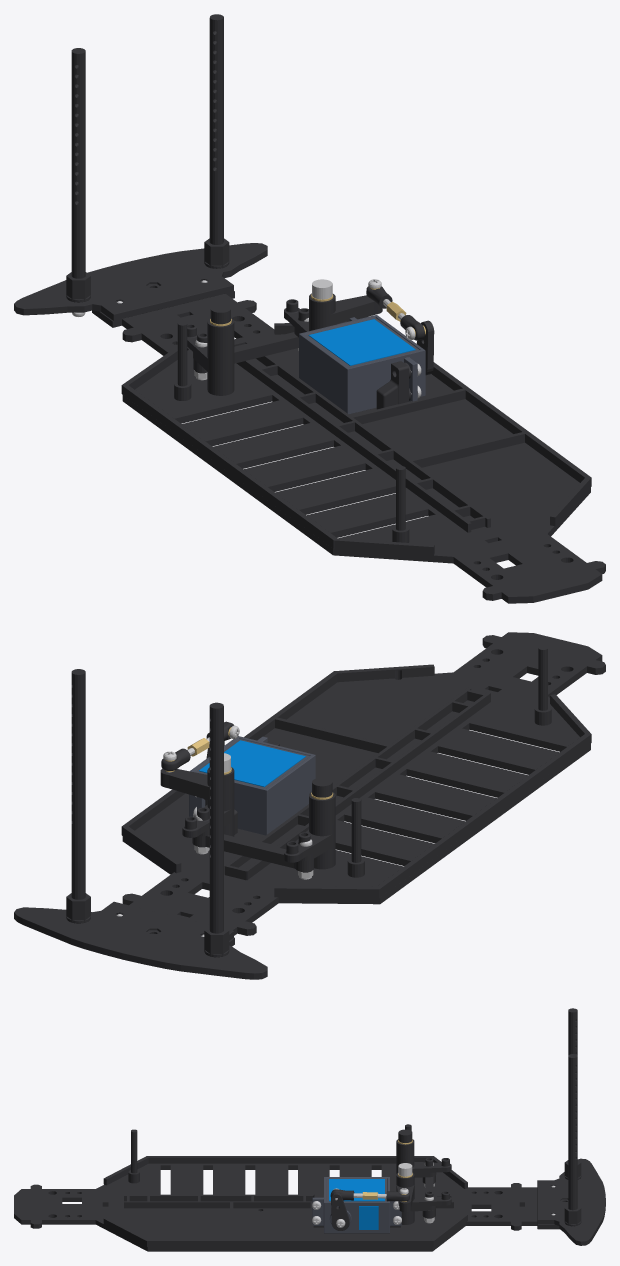
File: hsp_C.glb
The picture shows the model from 3 angles, top to bottom: view 1: azimuth 30°, elevation 25°; view 2: azimuth 150°, elevation 25°; view 3: azimuth 270°, elevation 25°; orthographic projection. The views are drawn at different scales.
Parts seen in each view (by area): view 1: n27, n5, n28, n1, n0, n29, n2, n3, n4, n13, n31, n30; view 2: n27, n5, n28, n0, n1, n3, n2, n29, n4, n31, n30, n35; view 3: n27, n5, n28, n1, n29, n3, n2, n0, n12, n30, n35.
Part boxes in pixels (x1=…): n27: x1=121, y1=293, x2=605, y2=603; n5: x1=14, y1=243, x2=267, y2=327; n28: x1=299, y1=315, x2=425, y2=414; n1: x1=204, y1=14, x2=229, y2=268; n0: x1=66, y1=48, x2=90, y2=301; n29: x1=308, y1=319, x2=415, y2=365; n2: x1=187, y1=318, x2=234, y2=395; n3: x1=284, y1=293, x2=382, y2=337; n4: x1=193, y1=332, x2=298, y2=372; n13: x1=376, y1=361, x2=411, y2=409; n31: x1=174, y1=321, x2=191, y2=400; n30: x1=392, y1=466, x2=409, y2=542; n27: x1=121, y1=632, x2=605, y2=935; n5: x1=14, y1=901, x2=267, y2=979; n28: x1=189, y1=736, x2=315, y2=835; n0: x1=204, y1=702, x2=229, y2=956; n1: x1=66, y1=669, x2=90, y2=922; n3: x1=160, y1=767, x2=234, y2=837; n2: x1=284, y1=791, x2=335, y2=869; n29: x1=199, y1=740, x2=305, y2=787; n4: x1=192, y1=834, x2=314, y2=871; n31: x1=347, y1=798, x2=364, y2=877; n30: x1=534, y1=646, x2=551, y2=725; n35: x1=161, y1=721, x2=233, y2=770; n27: x1=14, y1=1156, x2=537, y2=1251; n5: x1=537, y1=1158, x2=605, y2=1245; n28: x1=312, y1=1177, x2=401, y2=1233; n1: x1=564, y1=1054, x2=581, y2=1225; n29: x1=329, y1=1179, x2=384, y2=1229; n3: x1=396, y1=1172, x2=451, y2=1224; n2: x1=396, y1=1139, x2=451, y2=1177; n0: x1=564, y1=1008, x2=581, y2=1177; n12: x1=331, y1=1192, x2=349, y2=1230; n30: x1=128, y1=1129, x2=139, y2=1183; n35: x1=330, y1=1189, x2=409, y2=1201.
Size of the model in its own units: 0.1222 by 0.1196 by 0.3586.
